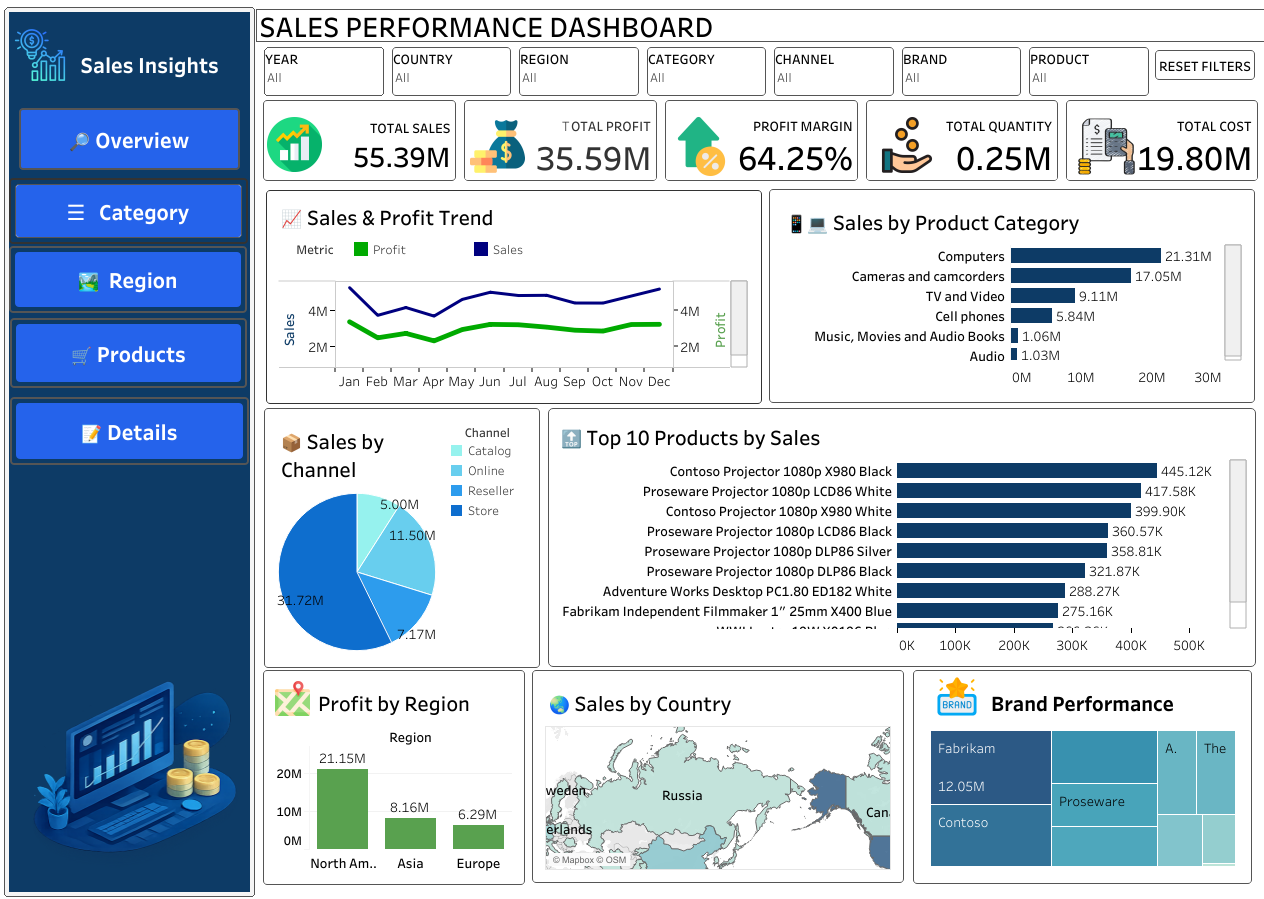

Layout of this report page (visuals, bound fields, positions):
{"tool":"tableau","page":{"name":"Sales Performance Dashboard","canvas":[1600,900],"ordinal":1},"visuals":[{"type":"text","box":[591,9,1009,33]},{"type":"image","param":"Image/opportunity.png","box":[348,29,54,52]},{"type":"text","box":[409,29,170,70]},{"type":"filter","title":"Sales & Profit Trend","param":"[federated.08pbr5n01i1tqh184iqa008kjnsi].[yr:Order Date:ok]","box":[595,43,127.6,57]},{"type":"filter","title":"Sales & Profit Trend","param":"[federated.08pbr5n01i1tqh184iqa008kjnsi].[none:Country:nk]","box":[722.6,43,127.6,57]},{"type":"filter","title":"Sales & Profit Trend","param":"[federated.08pbr5n01i1tqh184iqa008kjnsi].[none:Region:nk]","box":[850.1,43,127.6,57]},{"type":"filter","title":"Sales & Profit Trend","param":"[federated.08pbr5n01i1tqh184iqa008kjnsi].[none:Product Category:nk]","box":[977.7,43,127.6,57]},{"type":"filter","title":"Sales & Profit Trend","param":"[federated.08pbr5n01i1tqh184iqa008kjnsi].[none:Channel:nk]","box":[1105.3,43,127.6,57]},{"type":"filter","title":"Sales & Profit Trend","param":"[federated.08pbr5n01i1tqh184iqa008kjnsi].[none:Brand Name:nk]","box":[1232.8,43,127.6,57]},{"type":"filter","title":"Sales & Profit Trend","param":"[federated.08pbr5n01i1tqh184iqa008kjnsi].[none:Product Name:nk]","box":[1360.4,43,127.6,57]},{"type":"dashboard-object","box":[1488,51,105,36]},{"type":"worksheet","title":"KPI - Total Sales","mark":"Automatic","box":[594,96,201,89]},{"type":"worksheet","title":"KPI - Total Profit","mark":"Automatic","box":[795,96,201,89]},{"type":"worksheet","title":"KPI - Profit Margin","mark":"Automatic","box":[996,96,201,89]},{"type":"worksheet","title":"KPI - Total Quantity","mark":"Automatic","box":[1197,96,200,89]},{"type":"worksheet","title":"KPI - Total Cost","mark":"Automatic","box":[1397,96,200,89]},{"type":"dashboard-object","box":[356,110,217,58]},{"type":"image","param":"Image/money-bag.png","box":[805,115,55,63]},{"type":"image","param":"Image/increase.png","box":[1003,115,67,63]},{"type":"image","param":"Image/gross-profit.png","box":[609,116,55,58]},{"type":"image","param":"Image/budgeting.png","box":[1413,116,57,62]},{"type":"image","param":"Image/coins.png","box":[1207,117,70,56]},{"type":"dashboard-object","box":[346,180,235,62]},{"type":"worksheet","title":"Sales by Product Category","mark":"Automatic","rows":["Product Category"],"cols":["Sales"],"box":[1113,198,468,196]},{"type":"text","box":[610,199,478,36]},{"type":"legend","title":"Sales & Profit Trend","param":"[federated.08pbr5n01i1tqh184iqa008kjnsi].[:Measure Names]","box":[610,235,478,27]},{"type":"dashboard-object","box":[346,248,234,63]},{"type":"worksheet","title":"Sales & Profit Trend","mark":"Automatic","rows":["Sales","Profit"],"cols":["Order Date"],"box":[610,262,478,133]},{"type":"dashboard-object","box":[347,320,233,66]},{"type":"dashboard-object","box":[347,399,235,64]},{"type":"worksheet","title":"Sales by Channel","mark":"Pie","box":[608,417,169,242]},{"type":"legend","title":"Sales by Channel","param":"[federated.08pbr5n01i1tqh184iqa008kjnsi].[none:Channel:nk]","box":[777,417,89,242]},{"type":"worksheet","title":"Top 10 Products by Sales","mark":"Automatic","rows":["Product Name"],"cols":["Sales"],"box":[892,417,690,241]},{"type":"image","param":"Image/brand.png","box":[1251,676,83,40]},{"type":"worksheet","title":"Profit by Region","mark":"Automatic","rows":["Profit"],"cols":["Region"],"box":[607,679,244,197]},{"type":"worksheet","title":"Sales by Country Map","mark":"Automatic","box":[876,679,354,195]},{"type":"worksheet","title":"Brand Performance","mark":"Automatic","box":[1257,679,321,196]},{"type":"image","param":"Image/location.png","box":[604,681,47,35]}]}

Visuals, with their boxes on the page's 1600x900 design canvas (x1, y1, x2, y2). These are canvas units, not pixel positions in the 1264x899 screenshot, which may show the page scaled, cropped or inside an application window:
text: l=591, t=9, r=1600, b=42
image: l=348, t=29, r=402, b=81
text: l=409, t=29, r=579, b=99
"Sales & Profit Trend" filter: l=595, t=43, r=723, b=100
"Sales & Profit Trend" filter: l=723, t=43, r=850, b=100
"Sales & Profit Trend" filter: l=850, t=43, r=978, b=100
"Sales & Profit Trend" filter: l=978, t=43, r=1105, b=100
"Sales & Profit Trend" filter: l=1105, t=43, r=1233, b=100
"Sales & Profit Trend" filter: l=1233, t=43, r=1360, b=100
"Sales & Profit Trend" filter: l=1360, t=43, r=1488, b=100
dashboard-object: l=1488, t=51, r=1593, b=87
"KPI - Total Sales" worksheet: l=594, t=96, r=795, b=185
"KPI - Total Profit" worksheet: l=795, t=96, r=996, b=185
"KPI - Profit Margin" worksheet: l=996, t=96, r=1197, b=185
"KPI - Total Quantity" worksheet: l=1197, t=96, r=1397, b=185
"KPI - Total Cost" worksheet: l=1397, t=96, r=1597, b=185
dashboard-object: l=356, t=110, r=573, b=168
image: l=805, t=115, r=860, b=178
image: l=1003, t=115, r=1070, b=178
image: l=609, t=116, r=664, b=174
image: l=1413, t=116, r=1470, b=178
image: l=1207, t=117, r=1277, b=173
dashboard-object: l=346, t=180, r=581, b=242
"Sales by Product Category" worksheet: l=1113, t=198, r=1581, b=394
text: l=610, t=199, r=1088, b=235
"Sales & Profit Trend" legend: l=610, t=235, r=1088, b=262
dashboard-object: l=346, t=248, r=580, b=311
"Sales & Profit Trend" worksheet: l=610, t=262, r=1088, b=395
dashboard-object: l=347, t=320, r=580, b=386
dashboard-object: l=347, t=399, r=582, b=463
"Sales by Channel" worksheet (Pie marks): l=608, t=417, r=777, b=659
"Sales by Channel" legend: l=777, t=417, r=866, b=659
"Top 10 Products by Sales" worksheet: l=892, t=417, r=1582, b=658
image: l=1251, t=676, r=1334, b=716
"Profit by Region" worksheet: l=607, t=679, r=851, b=876
"Sales by Country Map" worksheet: l=876, t=679, r=1230, b=874
"Brand Performance" worksheet: l=1257, t=679, r=1578, b=875
image: l=604, t=681, r=651, b=716
